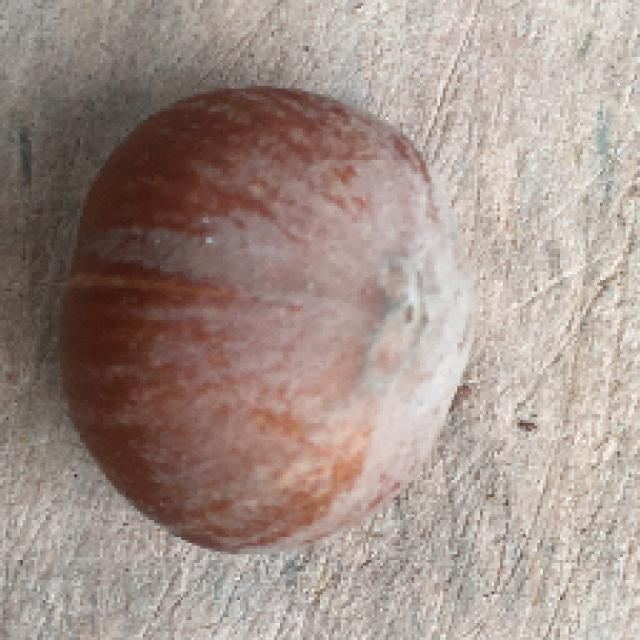qualityHazelnut: (58, 86, 467, 554)
